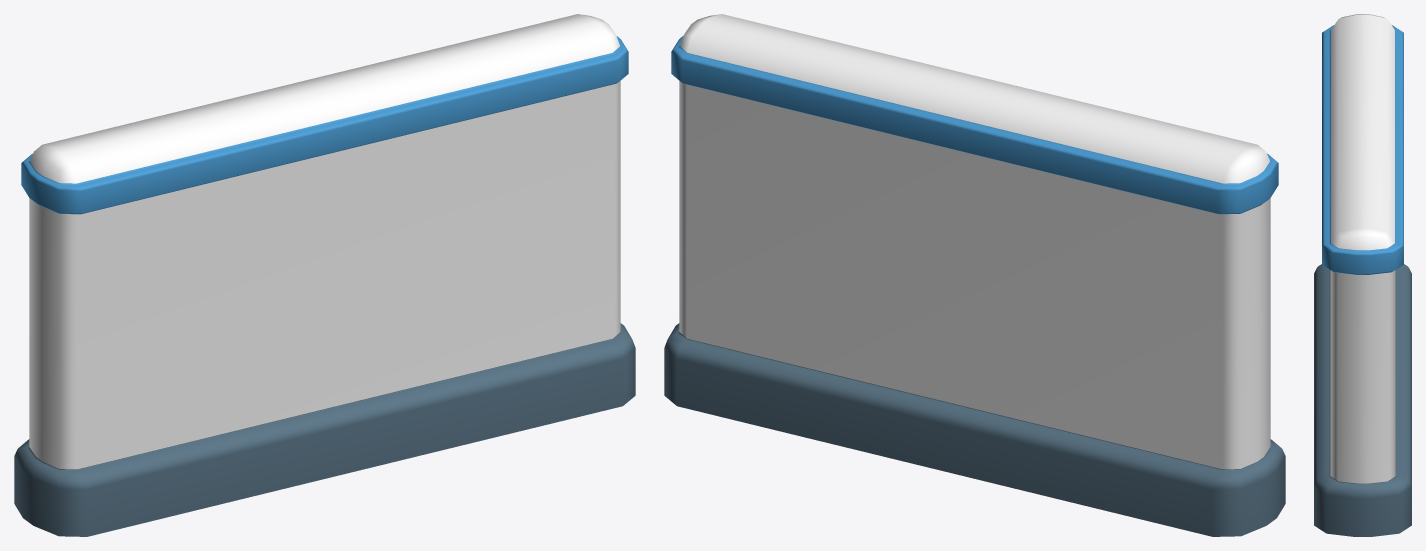
File: Env1_Wall.fbx
The picture shows the model from 3 angles, left to right: view 1: azimuth 30°, elevation 25°; view 2: azimuth 150°, elevation 25°; view 3: azimuth 270°, elevation 25°; orthographic projection. The views are drawn at different scales.
Parts seen in each view (by area): view 1: Env_Wall; view 2: Env_Wall; view 3: Env_Wall.
Boxes of the visible parts, box(x1,y1,x2,y2) form: Env_Wall: box(14, 14, 635, 536); Env_Wall: box(664, 14, 1285, 536); Env_Wall: box(1314, 14, 1411, 536).
Size of the model in its own units: 332 by 195 by 58.24.
